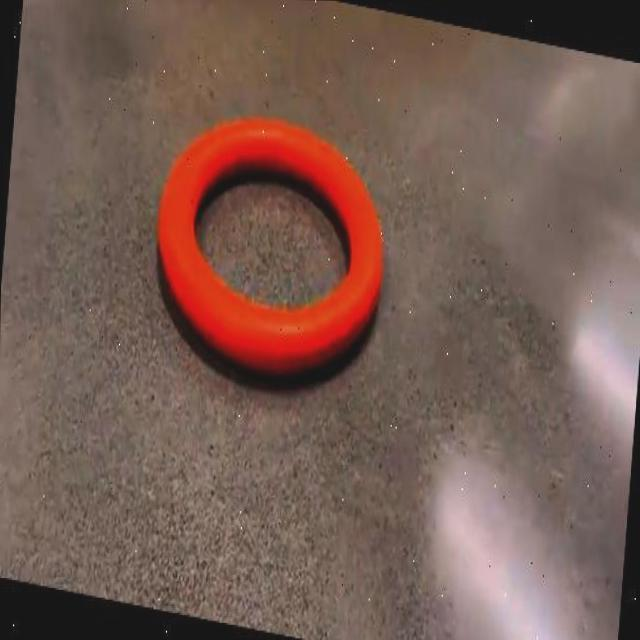note: (158, 118, 382, 376)
